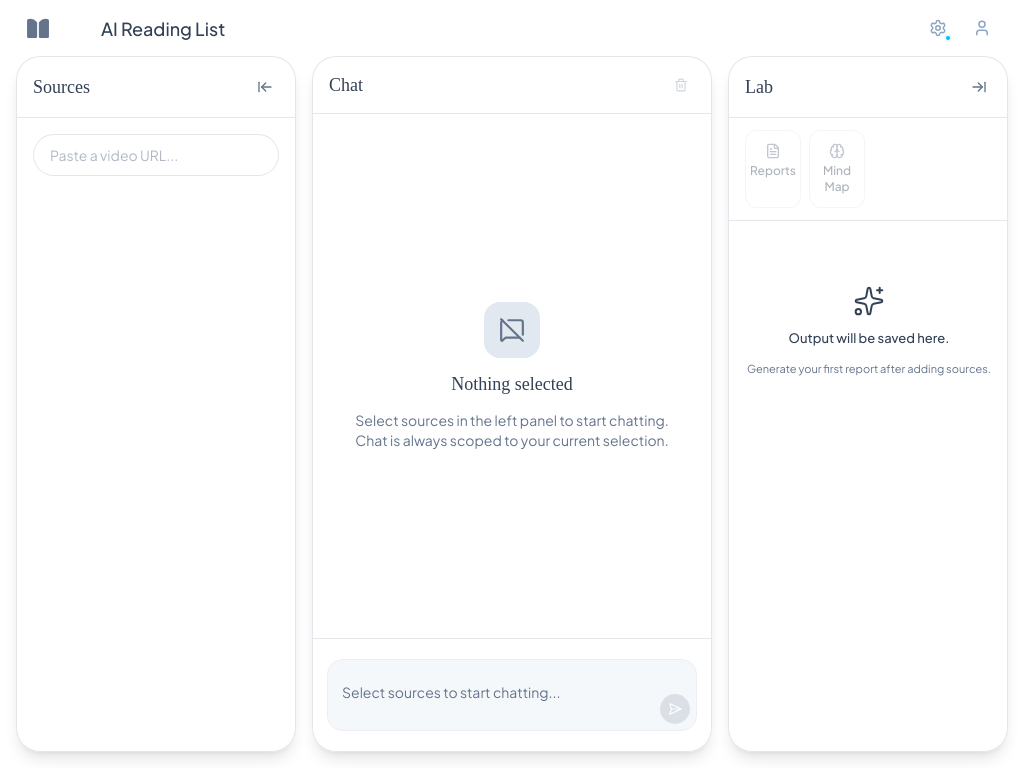
Test: list detail page › shows list name in navbar and commits rename on blur
Expected: the navigation bar is shown, [0,0,1023,56]
Click the button "AI Reading List".
click(163, 28)  # box [96,12,230,44]
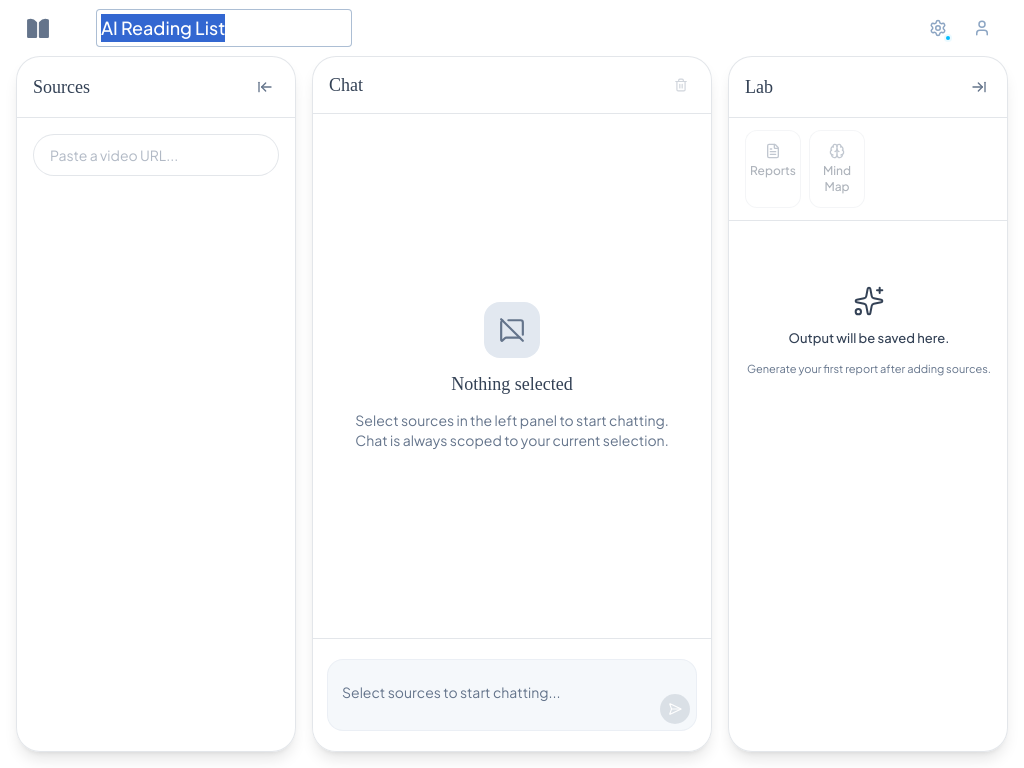
Expected: the 1st field holds "AI Reading List"
Replace the text in the 1st field with "New Name" at {"x": 224, "y": 28}, box [96,9,352,47]
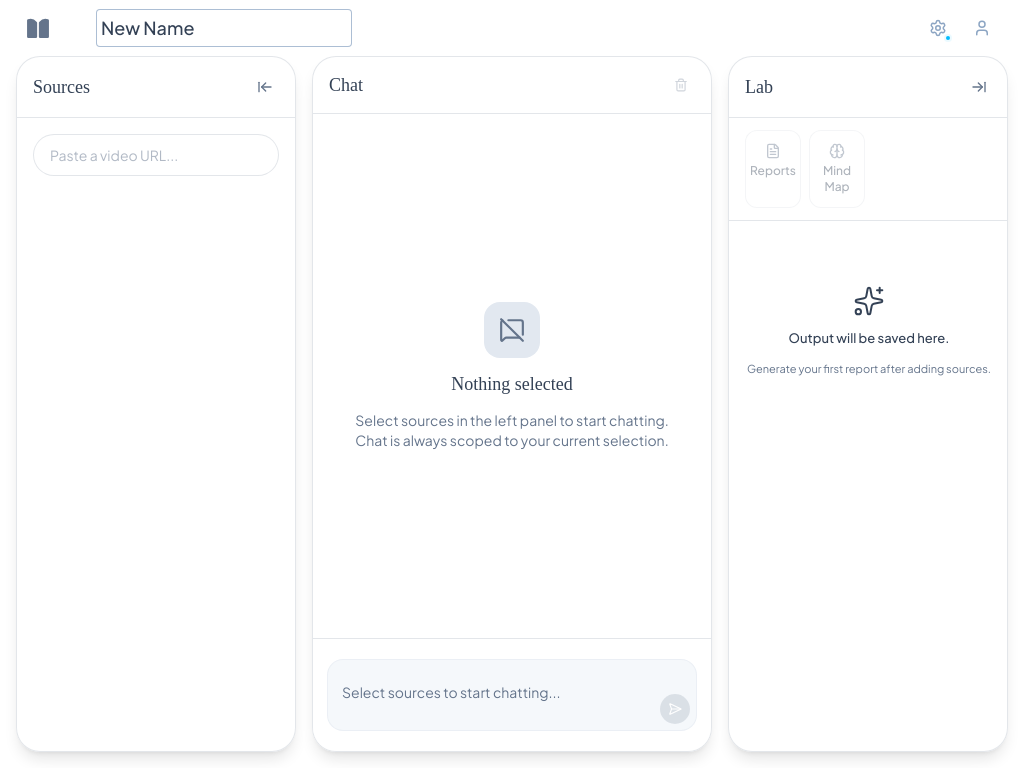
Press Tab
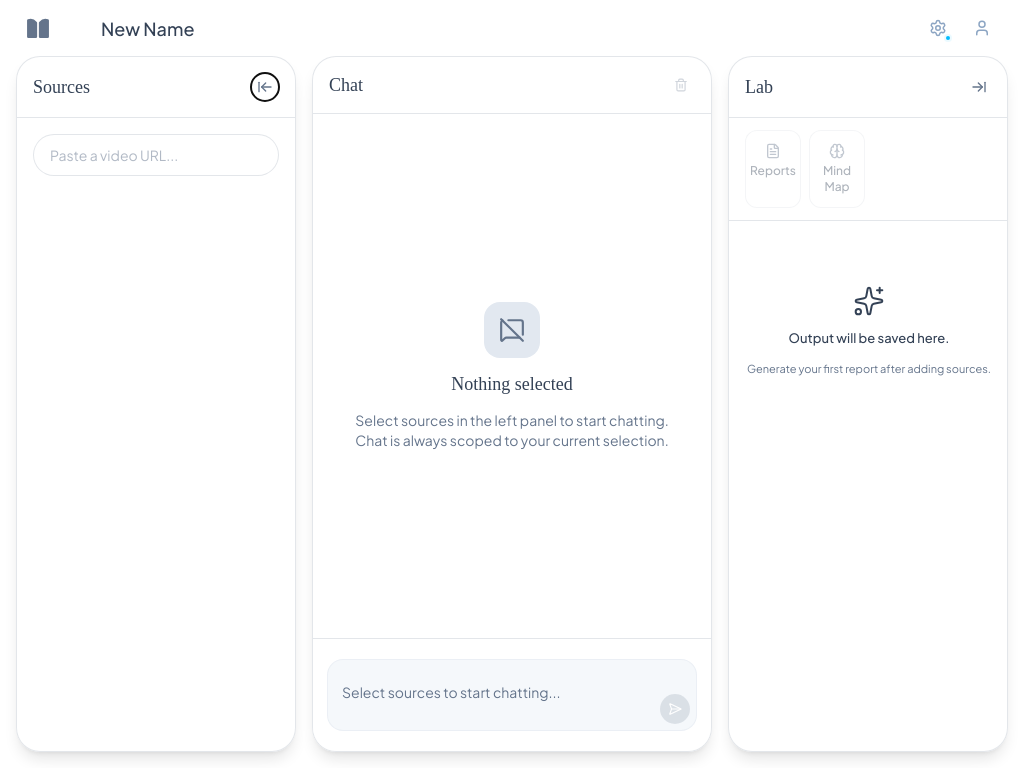
Expected: the button "New Name" is shown
Click the button "New Name".
click(148, 28)  # box [96,12,199,44]
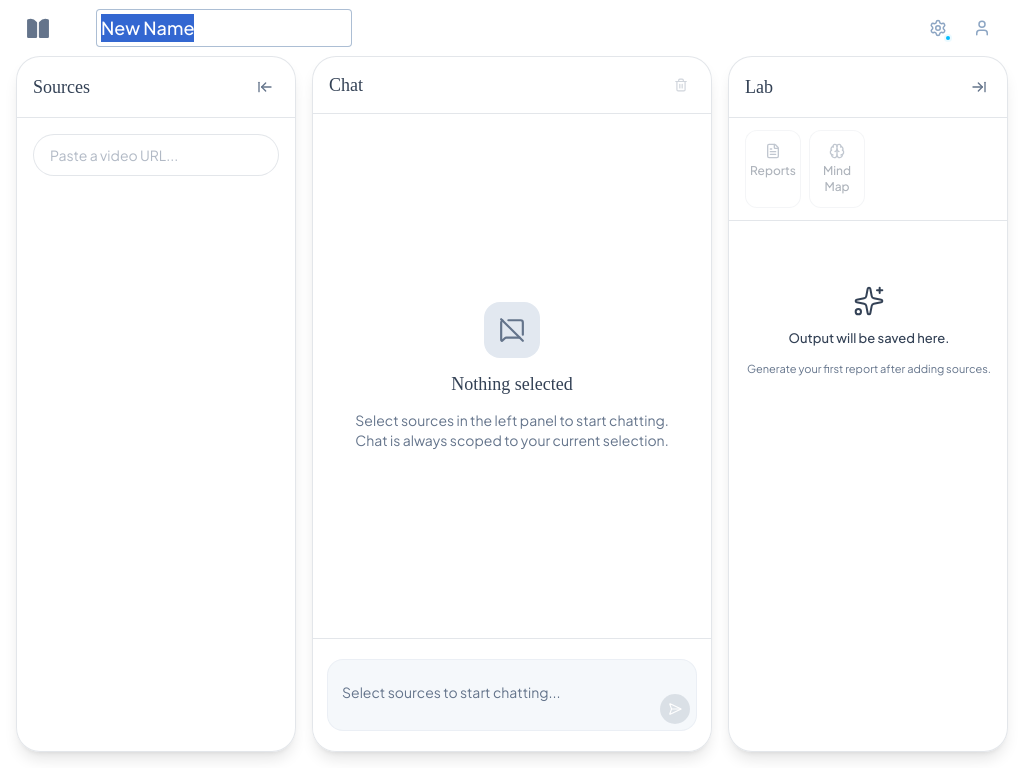
Replace the text in the 1st field with "Should Not Commit" at {"x": 224, "y": 28}, box [96,9,352,47]
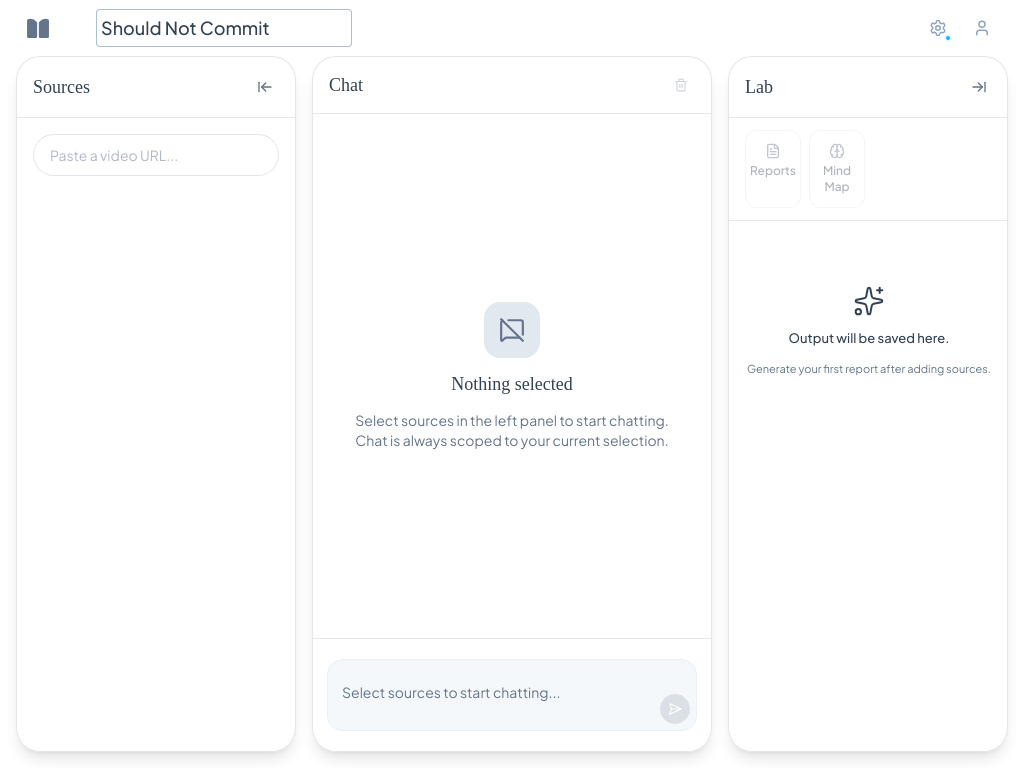
Press Escape
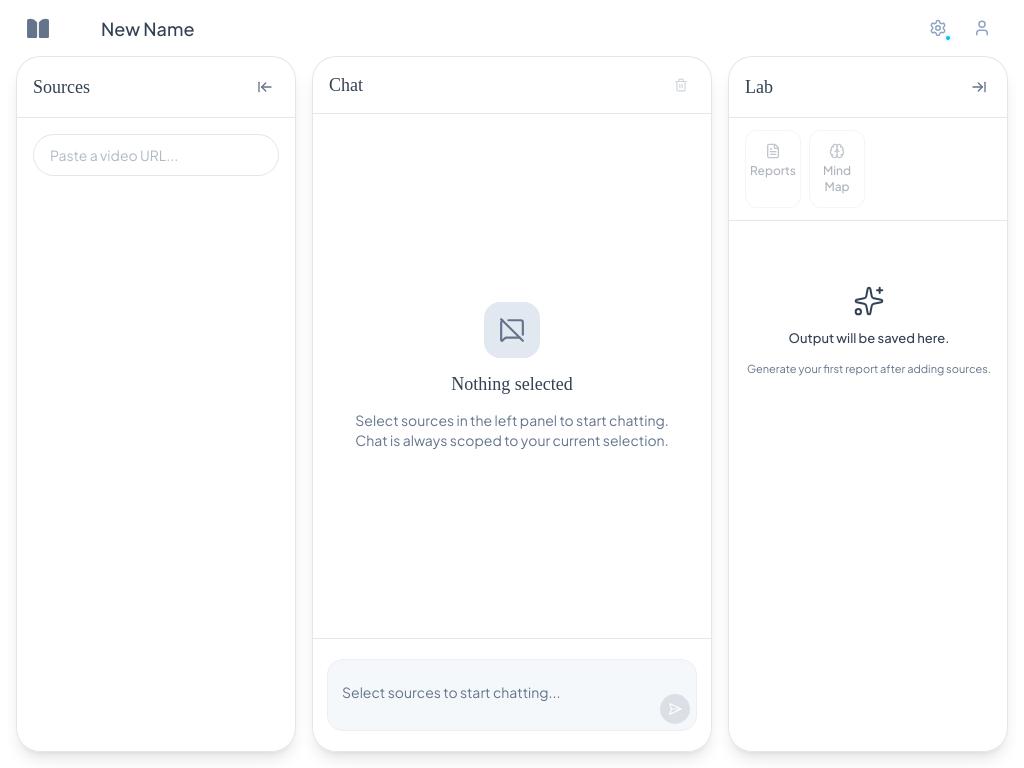
Expected: the text "Should Not Commit" is not shown
Expected: the button "New Name" is shown, [96,12,199,44]
